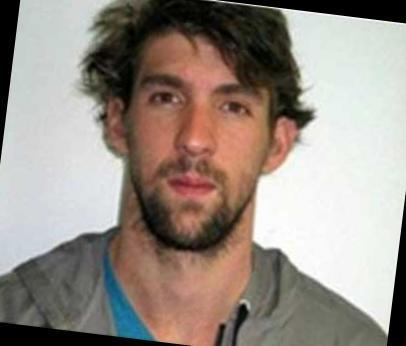Drunk: (136, 35, 264, 250)
